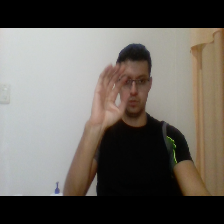left: (90, 60, 134, 129)
